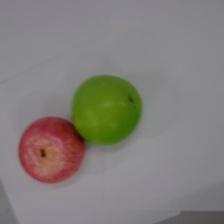green: (71, 74, 142, 143)
red: (18, 116, 84, 182)
